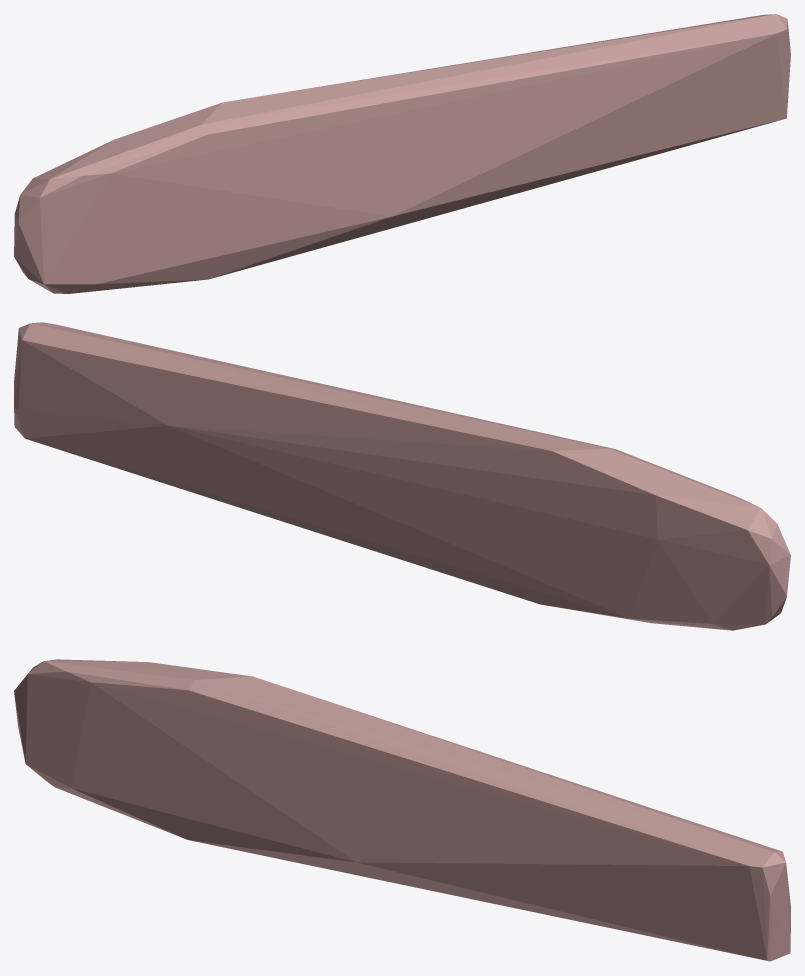
File: handTool_pliers_hoseClamp_a01.glb
The picture shows the model from 3 angles, top to bottom: view 1: azimuth 30°, elevation 25°; view 2: azimuth 150°, elevation 25°; view 3: azimuth 330°, elevation 25°; orthographic projection. The views are drawn at different scales.
Visible parts, largest first — view 1: geometry_0; view 2: geometry_0; view 3: geometry_0.
Part boxes in pixels (x1,y1,x2,y2): geometry_0: (14,14,790,293); geometry_0: (14,322,790,630); geometry_0: (14,659,790,961).
Size of the model in its own units: 0.4793 by 0.0917 by 0.0454.
